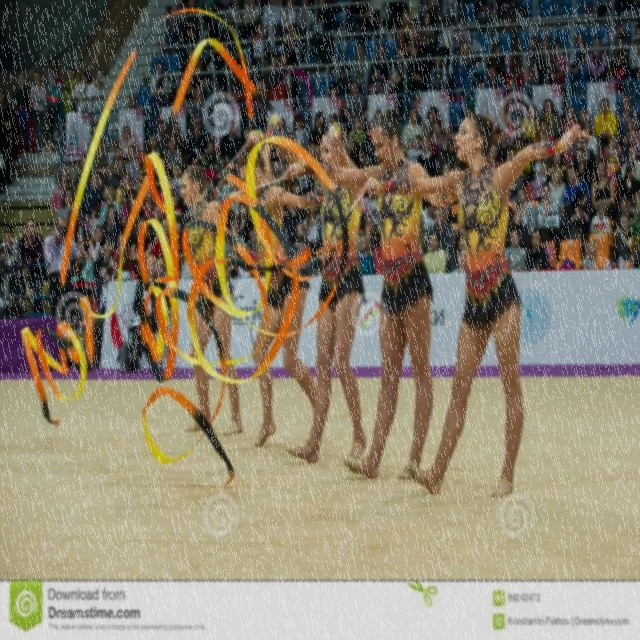pessoa: (360, 111, 592, 498), (278, 108, 466, 480), (240, 121, 369, 465), (237, 128, 329, 446), (178, 163, 266, 436), (124, 252, 170, 374), (162, 0, 226, 76), (92, 255, 135, 368), (398, 95, 454, 175), (43, 215, 81, 318), (136, 161, 181, 232), (282, 204, 325, 276), (17, 218, 47, 318), (201, 78, 266, 120), (180, 249, 270, 279), (356, 193, 381, 275), (544, 164, 568, 249), (386, 43, 426, 93), (504, 206, 533, 272), (9, 72, 32, 154), (0, 89, 19, 186), (564, 32, 590, 102), (342, 79, 368, 147), (416, 9, 436, 93), (46, 58, 64, 148), (147, 60, 171, 126), (270, 116, 296, 176), (226, 200, 257, 250), (594, 98, 618, 162), (562, 188, 590, 242), (28, 70, 46, 154), (212, 157, 246, 200), (218, 119, 245, 173), (591, 158, 616, 216), (344, 119, 376, 164), (450, 38, 474, 96), (424, 206, 454, 252), (70, 68, 100, 113), (572, 147, 594, 208), (367, 43, 392, 95), (572, 132, 599, 180), (86, 120, 124, 154), (476, 41, 503, 88), (70, 241, 94, 293), (89, 224, 107, 292), (536, 99, 564, 142), (610, 34, 630, 94), (96, 182, 122, 228), (562, 164, 590, 206), (535, 182, 561, 227), (248, 23, 270, 76), (70, 154, 94, 202), (513, 187, 536, 237), (502, 228, 528, 272), (50, 168, 74, 215), (301, 205, 324, 254), (185, 116, 207, 167), (240, 0, 260, 56), (525, 227, 551, 270), (422, 231, 448, 274), (80, 171, 105, 215), (165, 120, 187, 170), (613, 212, 634, 262), (536, 34, 556, 86), (349, 40, 372, 85), (618, 128, 640, 175), (505, 145, 524, 199), (616, 93, 639, 137), (100, 203, 122, 247), (130, 221, 154, 261), (529, 36, 548, 86), (150, 218, 172, 260), (113, 242, 136, 282), (278, 0, 298, 46), (308, 110, 328, 156), (311, 0, 329, 48), (618, 160, 640, 199), (308, 110, 324, 163), (603, 134, 622, 178), (438, 20, 454, 72), (120, 182, 136, 234), (588, 37, 606, 83), (530, 161, 550, 202), (578, 119, 599, 158), (398, 10, 418, 50), (62, 66, 78, 116), (224, 0, 244, 40), (115, 171, 136, 209), (547, 150, 569, 186), (282, 177, 326, 195), (620, 144, 640, 182), (590, 201, 612, 234), (1, 224, 20, 262), (292, 112, 310, 152), (357, 234, 375, 274), (628, 21, 640, 81), (174, 78, 194, 114), (508, 36, 526, 74), (291, 221, 311, 255), (551, 42, 567, 84), (125, 144, 141, 185), (262, 0, 282, 31), (494, 130, 512, 164), (202, 138, 220, 172), (450, 233, 466, 271), (56, 187, 74, 220), (120, 125, 138, 158), (92, 154, 125, 172), (164, 134, 182, 166), (622, 116, 640, 147), (180, 204, 192, 250), (430, 58, 446, 92), (454, 16, 471, 48), (580, 240, 598, 270), (326, 82, 340, 120), (190, 85, 207, 116), (562, 106, 580, 135), (540, 231, 554, 267), (449, 245, 467, 273), (629, 190, 640, 234), (535, 118, 555, 142), (114, 234, 130, 262), (420, 202, 436, 230), (604, 248, 626, 268), (490, 124, 500, 166), (296, 0, 313, 24), (283, 24, 300, 46), (145, 132, 160, 156), (268, 54, 289, 71), (157, 120, 168, 151), (101, 172, 122, 188), (618, 195, 629, 215), (100, 242, 113, 258), (514, 135, 525, 152), (128, 92, 138, 110), (156, 254, 164, 276), (505, 203, 513, 224), (419, 231, 426, 254), (542, 16, 550, 36), (522, 136, 534, 148), (24, 288, 34, 302), (368, 82, 378, 94), (328, 112, 338, 124), (454, 160, 466, 170), (579, 108, 587, 121), (506, 78, 516, 88), (159, 152, 169, 162), (374, 108, 382, 119), (464, 108, 474, 116)
